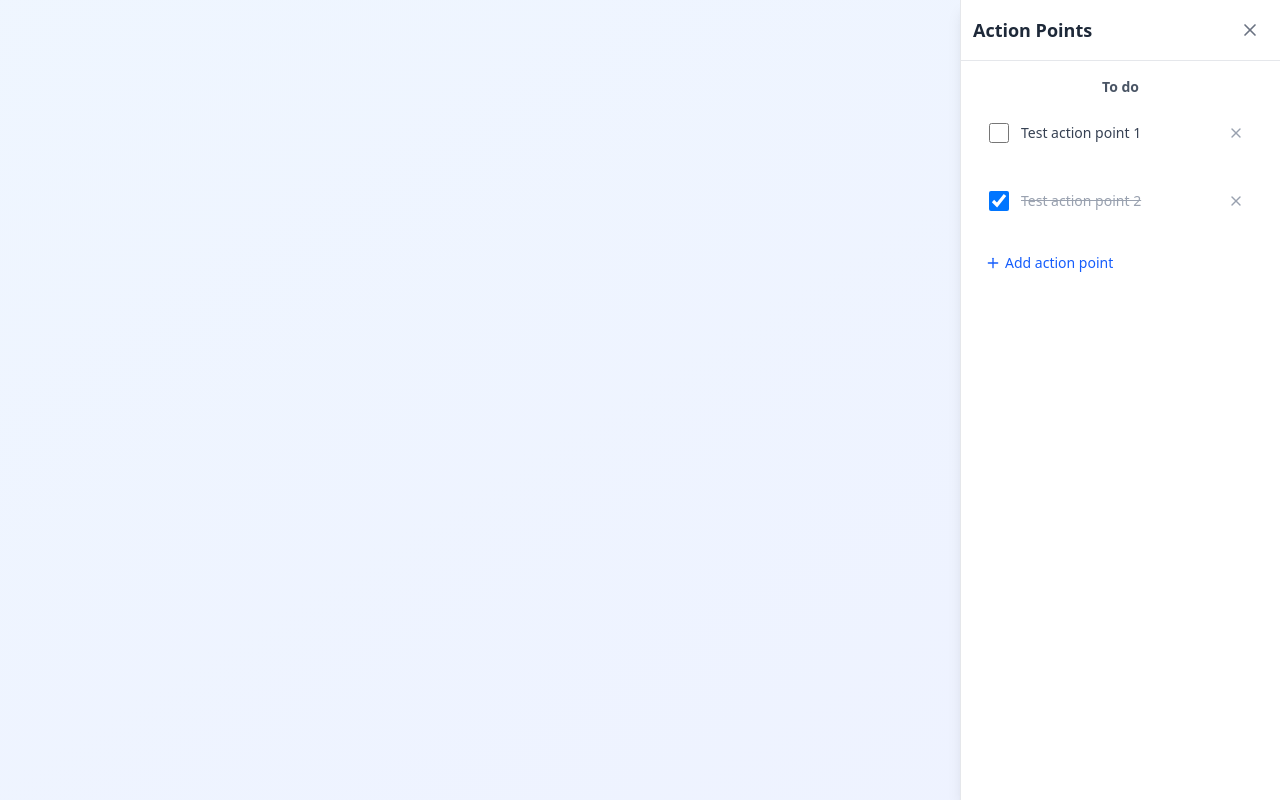
Test: ActionPointsPanel › should show input field when 'Add action point' button is clicked
Click the button with test id "add-action-point-button": coordinates (1049, 263) [977, 245, 1121, 281]
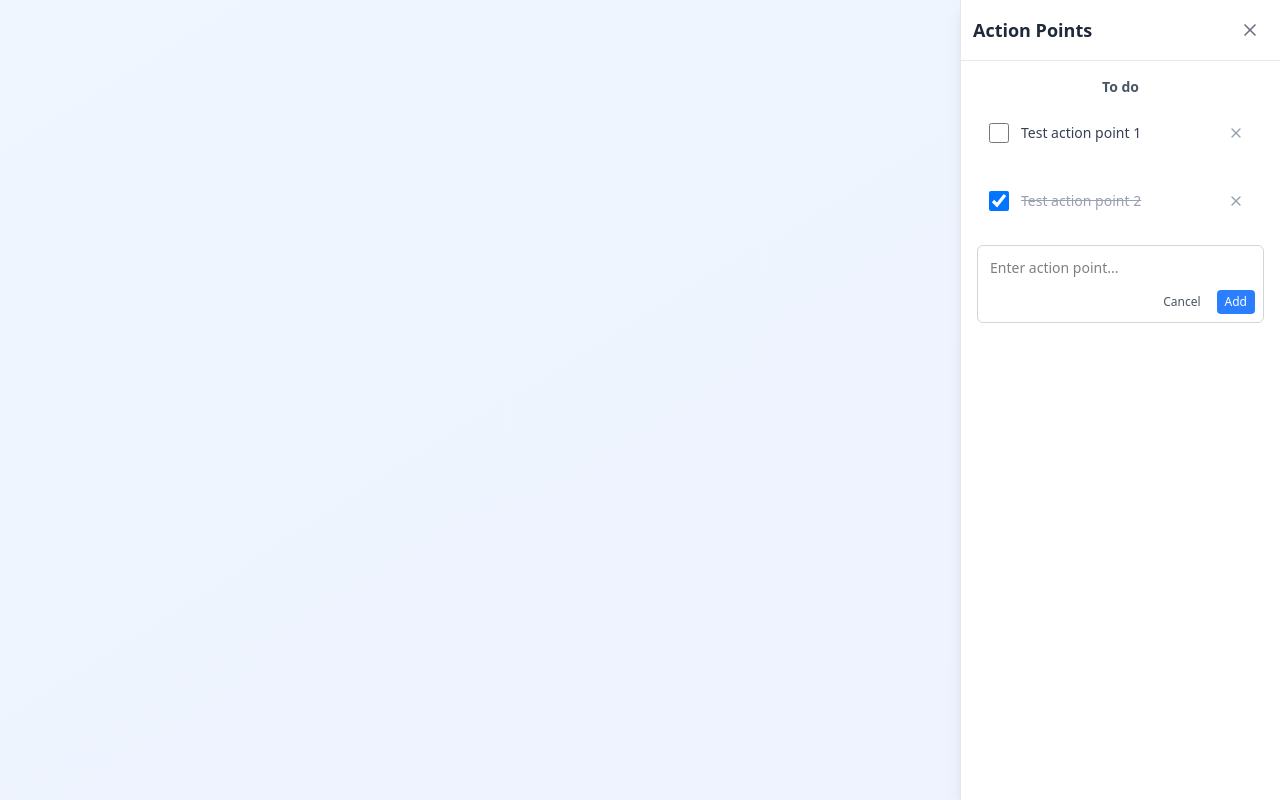
Expected: the button "Add" is shown, [1217, 290, 1255, 314]
Result: the field with placeholder "Enter action point..." is shown at [986, 254, 1255, 282]
Result: the button "Cancel" is shown at [1155, 290, 1209, 314]
